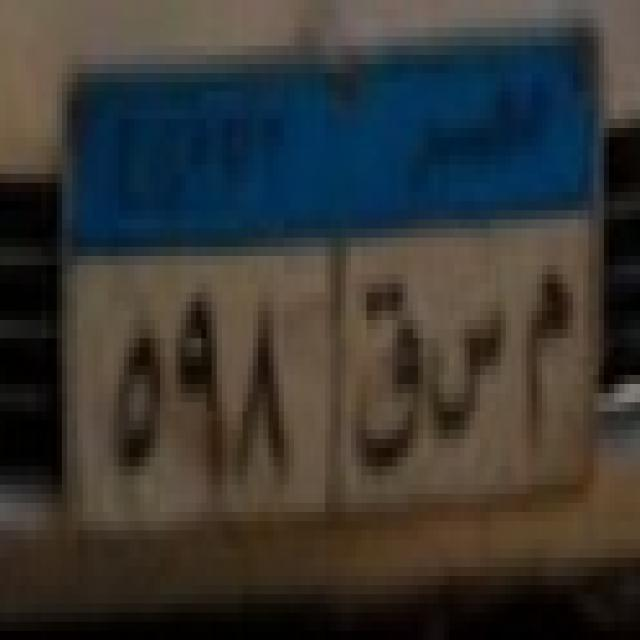5: (110, 308, 171, 480)
8: (235, 287, 300, 491)
9: (170, 286, 238, 492)
Meem: (517, 258, 584, 472)
Seen: (432, 270, 509, 460)
Taa: (350, 264, 434, 486)
